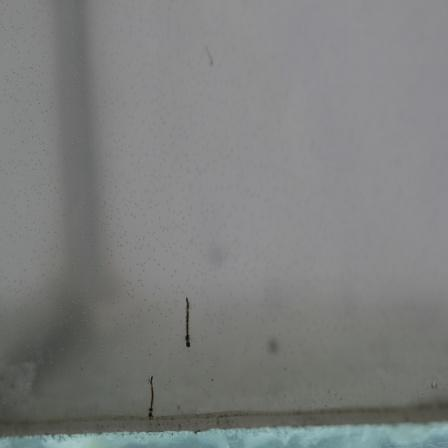Jentik-Nyamuk: (179, 295, 195, 351), (144, 371, 161, 420)
